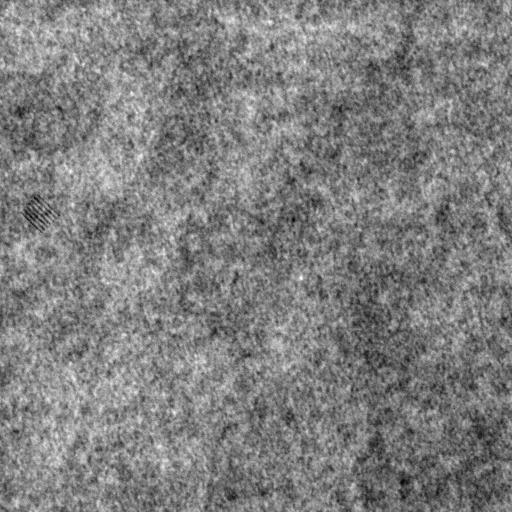DefectTypeB: (21, 191, 62, 236)
